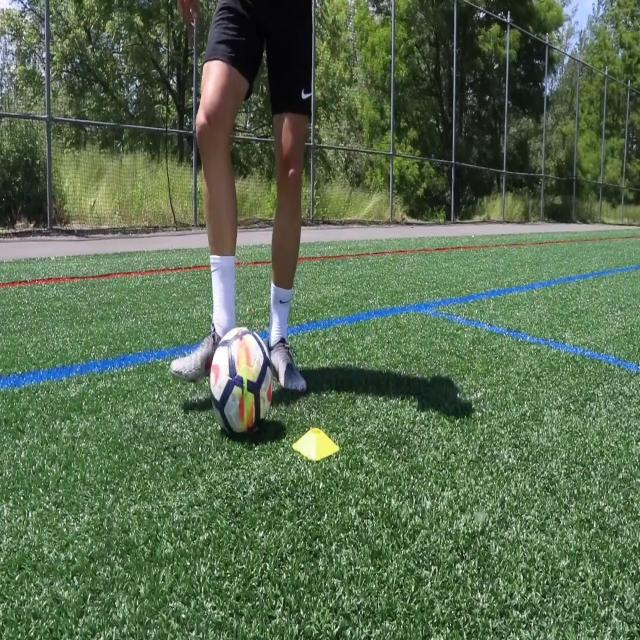Soccer Ball: (210, 327, 273, 438)
